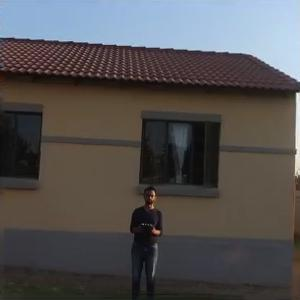follow: (121, 181, 165, 298)
